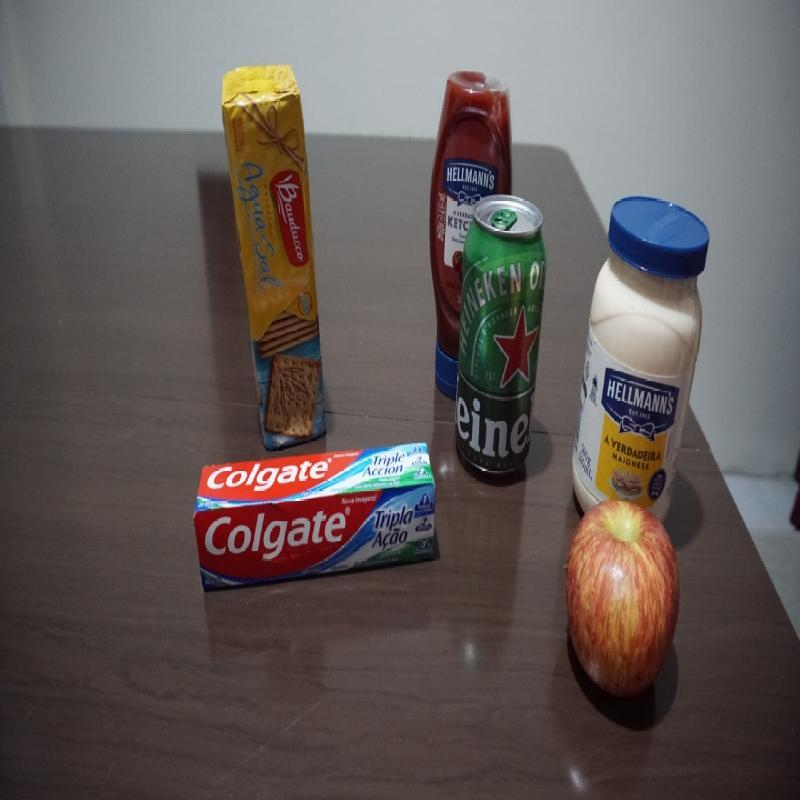Apple: (565, 499, 684, 704)
Beer can: (454, 193, 548, 485)
Cracker: (220, 60, 329, 451)
Ketchup: (428, 62, 515, 404)
Mayonnaise: (570, 193, 713, 538)
Toothpaste: (193, 438, 444, 594)
